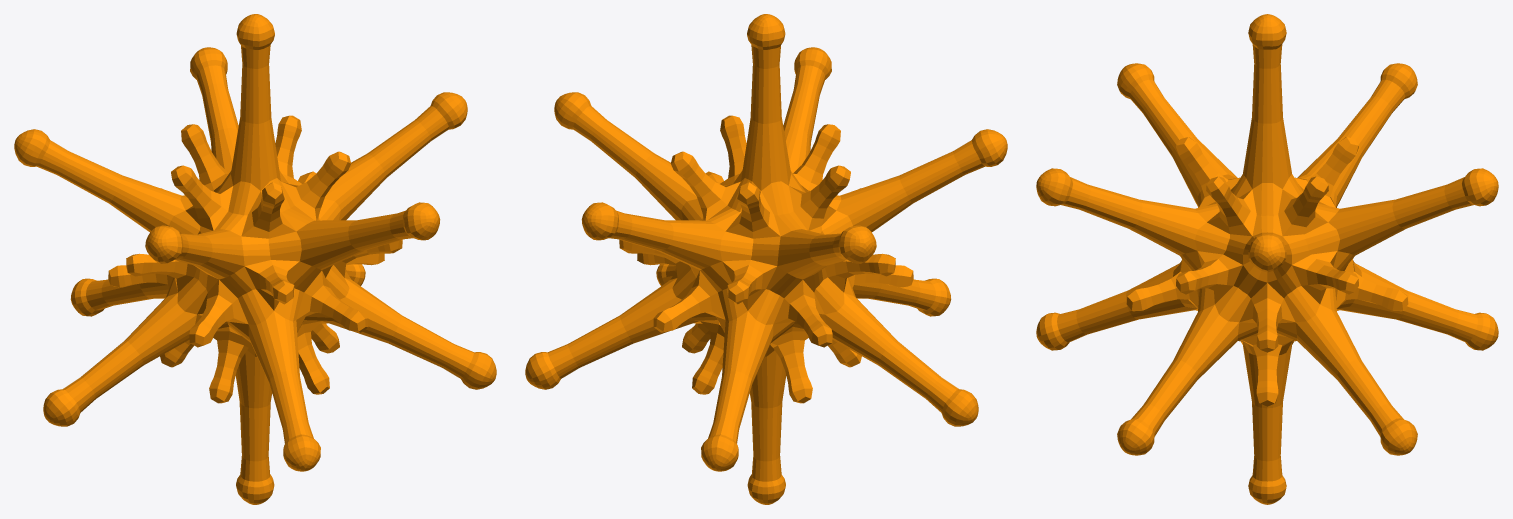
File: deformedBall3.glb
The picture shows the model from 3 angles, left to right: view 1: azimuth 30°, elevation 25°; view 2: azimuth 150°, elevation 25°; view 3: azimuth 270°, elevation 25°; orthographic projection.
Visible parts, largest first — view 1: burst; view 2: burst; view 3: burst.
Part boxes in pixels (x1,y1,x2,y2): burst: [14, 14, 496, 504]; burst: [525, 14, 1007, 504]; burst: [1036, 14, 1498, 504].
Bounding box in the file's own units: 31.5 × 35.02 × 30.04.
